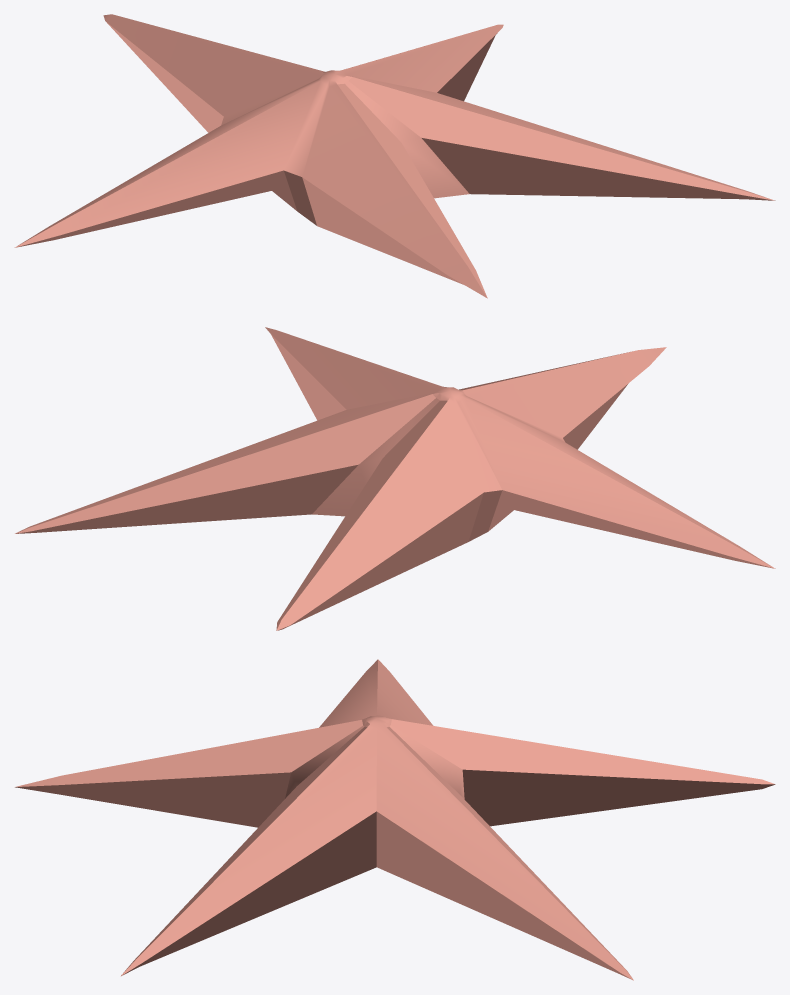
File: SM_Seastar_Thin.fbx
3 views of the same model, one above another, from view 1: azimuth 30°, elevation 25°; view 2: azimuth 150°, elevation 25°; view 3: azimuth 270°, elevation 25° (orthographic). The views are drawn at different scales.
Visible parts, largest first — view 1: SM_SeaStar_Thin; view 2: SM_SeaStar_Thin; view 3: SM_SeaStar_Thin.
Boxes of the visible parts, x1,y1,x2,y2 form: SM_SeaStar_Thin: (14, 14, 775, 298); SM_SeaStar_Thin: (15, 327, 775, 630); SM_SeaStar_Thin: (14, 659, 775, 980).
Bounding box in the file's own units: 59.08 × 10.66 × 62.17.
